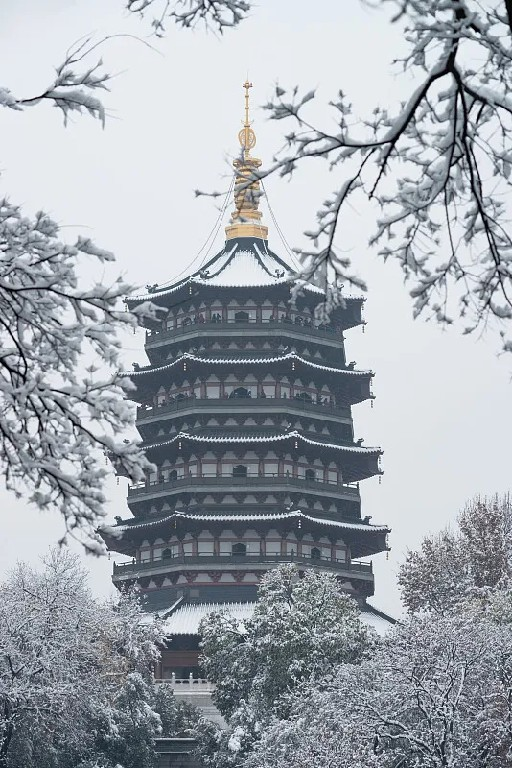Leifeng: (110, 78, 415, 737)
